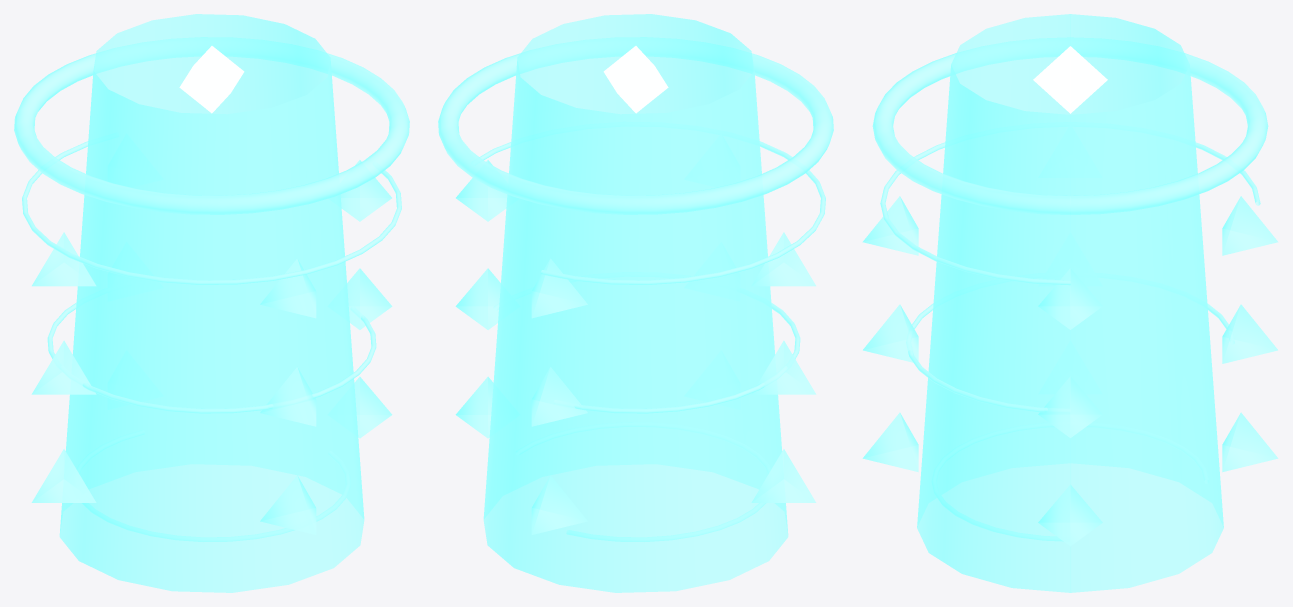
Rendered from vfx_tower_upgrade.glb.
3 renders of one model, left to right at view 1: azimuth 30°, elevation 25°; view 2: azimuth 150°, elevation 25°; view 3: azimuth 270°, elevation 25°, orthographic.
Visible parts, largest first — view 1: up_column, up_cap, up_tick2, up_tick1, up_star, up_tick0, up_chevron0_1, up_chevron1_1, up_chevron0_2, up_chevron1_2, up_chevron2_1, up_chevron2_2 (+3 smaller); view 2: up_column, up_cap, up_star, up_tick0, up_tick2, up_chevron0_3, up_chevron1_3, up_chevron0_2, up_chevron1_2, up_chevron2_3, up_chevron2_2, up_tick1 (+3 smaller); view 3: up_column, up_cap, up_star, up_tick0, up_chevron0_0, up_chevron1_0, up_chevron2_0, up_tick2, up_chevron0_1, up_chevron0_3, up_chevron2_3, up_chevron1_3 (+3 smaller).
Part boxes in pixels (x1=…): up_column: x1=59, y1=14, x2=364, y2=592; up_cap: x1=14, y1=37, x2=409, y2=214; up_tick2: x1=22, y1=141, x2=401, y2=284; up_tick1: x1=47, y1=302, x2=376, y2=413; up_star: x1=179, y1=46, x2=244, y2=113; up_tick0: x1=77, y1=430, x2=350, y2=541; up_chevron0_1: x1=260, y1=475, x2=316, y2=534; up_chevron1_1: x1=260, y1=367, x2=316, y2=426; up_chevron0_2: x1=31, y1=449, x2=96, y2=502; up_chevron1_2: x1=31, y1=340, x2=96, y2=394; up_chevron2_1: x1=260, y1=258, x2=316, y2=318; up_chevron2_2: x1=32, y1=232, x2=96, y2=286; up_column: x1=483, y1=14, x2=788, y2=592; up_cap: x1=438, y1=37, x2=833, y2=214; up_star: x1=603, y1=46, x2=668, y2=113; up_tick0: x1=516, y1=422, x2=770, y2=541; up_tick2: x1=479, y1=141, x2=825, y2=284; up_chevron0_3: x1=531, y1=475, x2=587, y2=534; up_chevron1_3: x1=531, y1=367, x2=587, y2=426; up_chevron0_2: x1=751, y1=449, x2=816, y2=502; up_chevron1_2: x1=751, y1=340, x2=816, y2=394; up_chevron2_3: x1=531, y1=258, x2=587, y2=318; up_chevron2_2: x1=751, y1=232, x2=815, y2=286; up_tick1: x1=494, y1=302, x2=800, y2=413; up_column: x1=917, y1=14, x2=1223, y2=592; up_cap: x1=872, y1=37, x2=1268, y2=214; up_star: x1=1033, y1=46, x2=1107, y2=113; up_tick0: x1=932, y1=423, x2=1208, y2=540; up_chevron0_0: x1=1038, y1=484, x2=1102, y2=546; up_chevron1_0: x1=1038, y1=376, x2=1102, y2=437; up_chevron2_0: x1=1038, y1=268, x2=1102, y2=329; up_tick2: x1=880, y1=142, x2=1260, y2=285; up_chevron0_1: x1=862, y1=412, x2=918, y2=472; up_chevron0_3: x1=1222, y1=412, x2=1278, y2=472; up_chevron2_3: x1=1222, y1=196, x2=1278, y2=255; up_chevron1_3: x1=1222, y1=304, x2=1277, y2=363.
Size of the model in its own units: 2.44 by 3.12 by 2.44.
